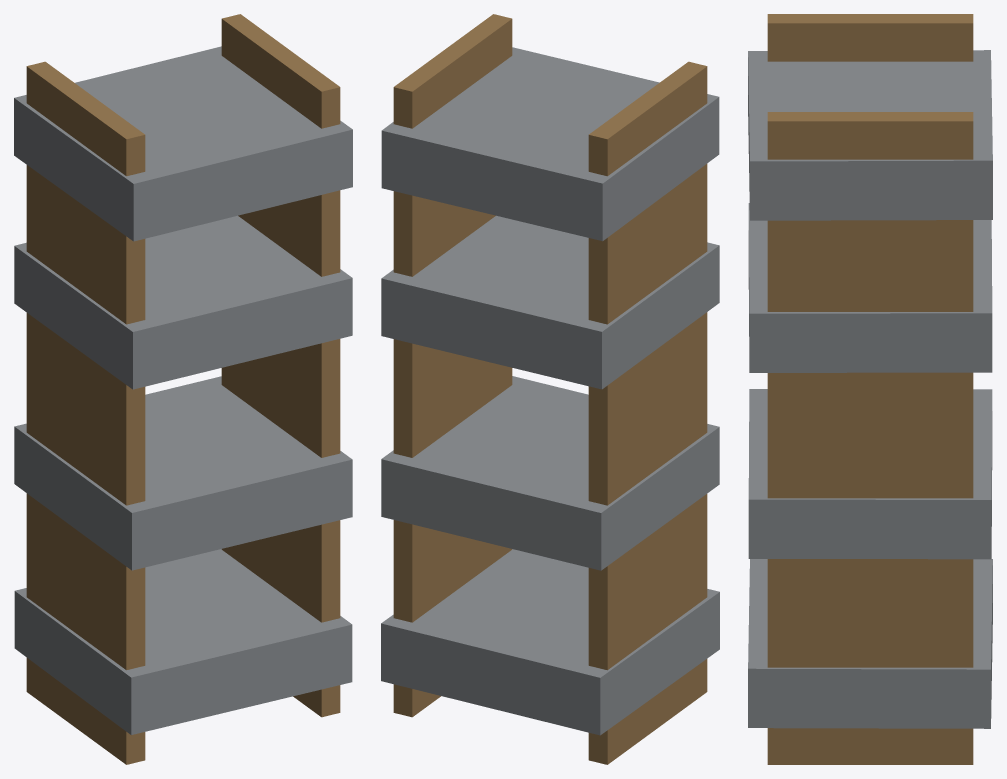
The model's file is prop_splint.glb.
3 views of the same model, side by side, from view 1: azimuth 30°, elevation 25°; view 2: azimuth 150°, elevation 25°; view 3: azimuth 270°, elevation 25° (orthographic). The views are drawn at different scales.
Visible parts, largest first — view 1: prop_splint; view 2: prop_splint; view 3: prop_splint.
Boxes of the visible parts, x1,y1,x2,y2 form: prop_splint: [14, 14, 352, 764]; prop_splint: [381, 14, 719, 764]; prop_splint: [748, 14, 992, 764].
Size of the model in its own units: 0.141 by 0.38 by 0.131.
